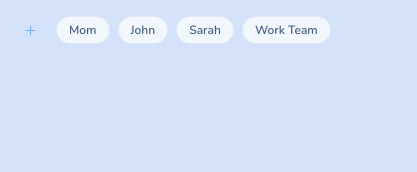
it: TagInput › Tag Creation › shows input field when add button is clicked
The image size is (417, 172).
Click the button named "Add new people tag".
click(30, 30)  # box [12,12,48,48]
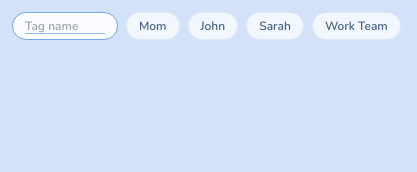
Now the field named "New people tag name" is shown, box [25,18,105,34]
